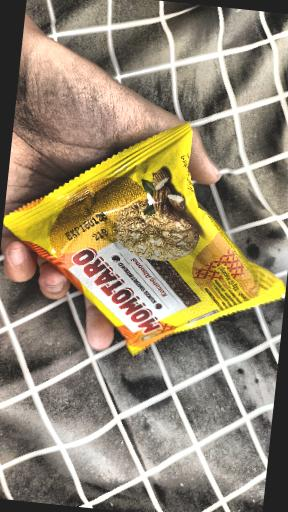momotaro: (4, 87, 288, 475)
